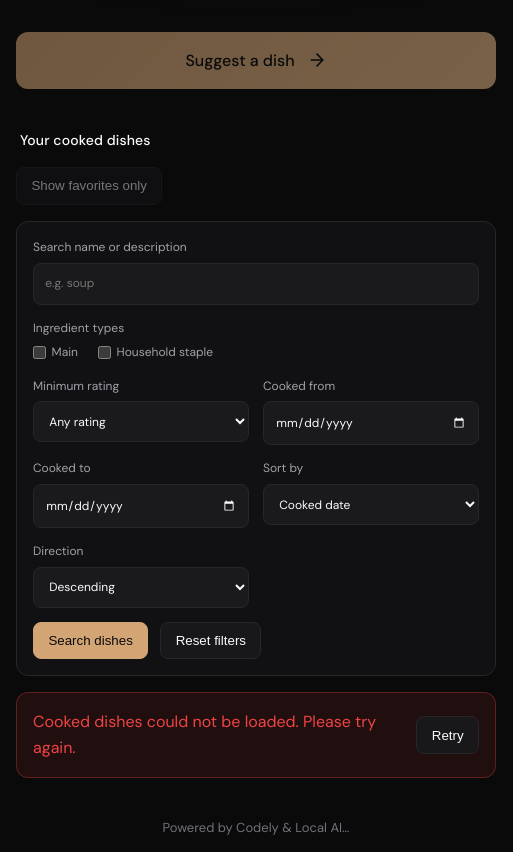
Test: Home cooked-dish search should › show errors, retry and render the empty state
(page scrolled)
Expected: the message shows "Cooked dishes could not be loaded", [33, 711, 376, 758]
Click the button "Retry". click: {"x": 448, "y": 735}
box: [416, 716, 479, 754]
(page scrolled)
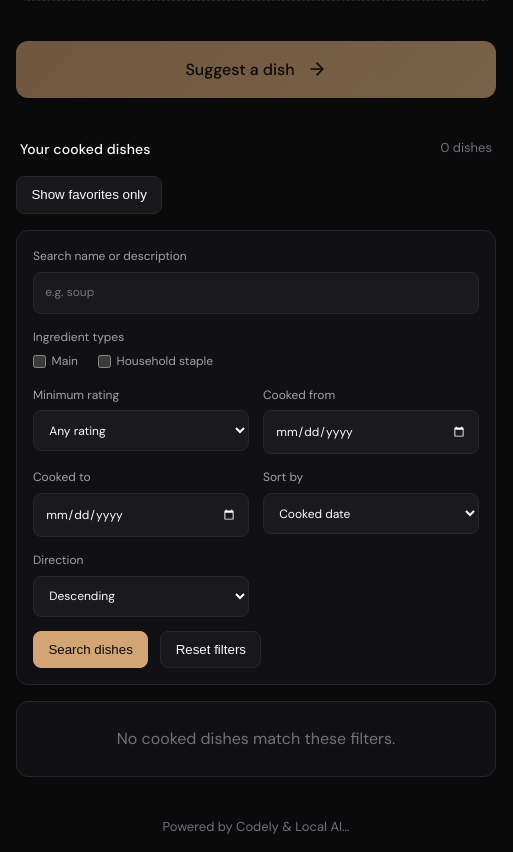
Expected: the text "No cooked dishes match these filters." is shown, [16, 701, 496, 777]
Expected: the message "Cooked dishes could not be loaded. Please try again. Retry" is gone
